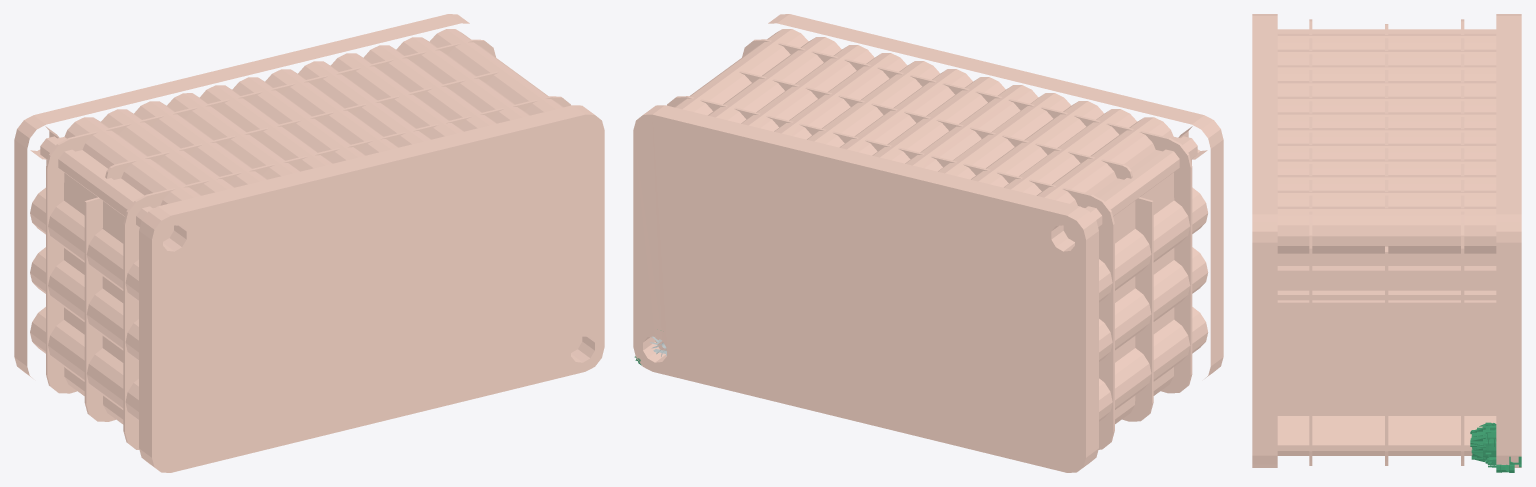
File: xrays.gltf
3 renders of one model, left to right at view 1: azimuth 30°, elevation 25°; view 2: azimuth 150°, elevation 25°; view 3: azimuth 270°, elevation 25°, orthographic. The views are drawn at different scales.
Visible parts, largest first — view 1: Batt; view 2: Batt; view 3: Batt, MotorBack.
Part boxes in pixels (x1,y1,x2,y2): Batt: (14, 14, 604, 472); Batt: (633, 14, 1223, 472); Batt: (1252, 14, 1521, 467); MotorBack: (1470, 422, 1521, 472).
Size of the model in its own units: 598 by 325 by 315.
